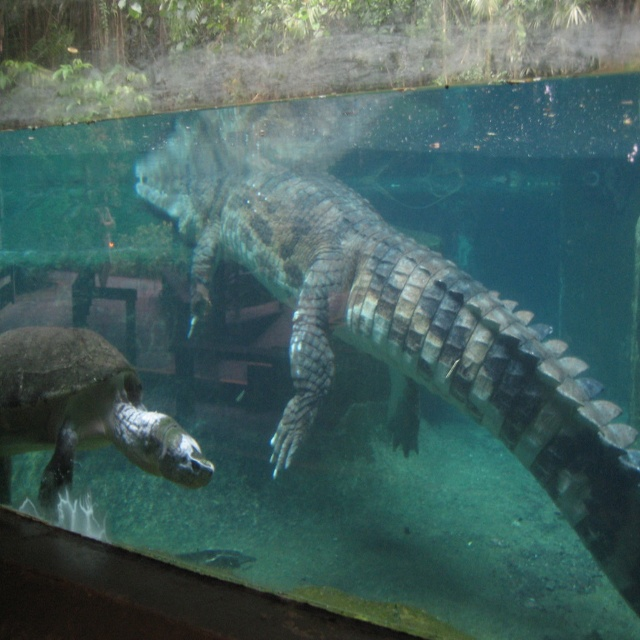Sea turtle: (0, 324, 215, 509)
